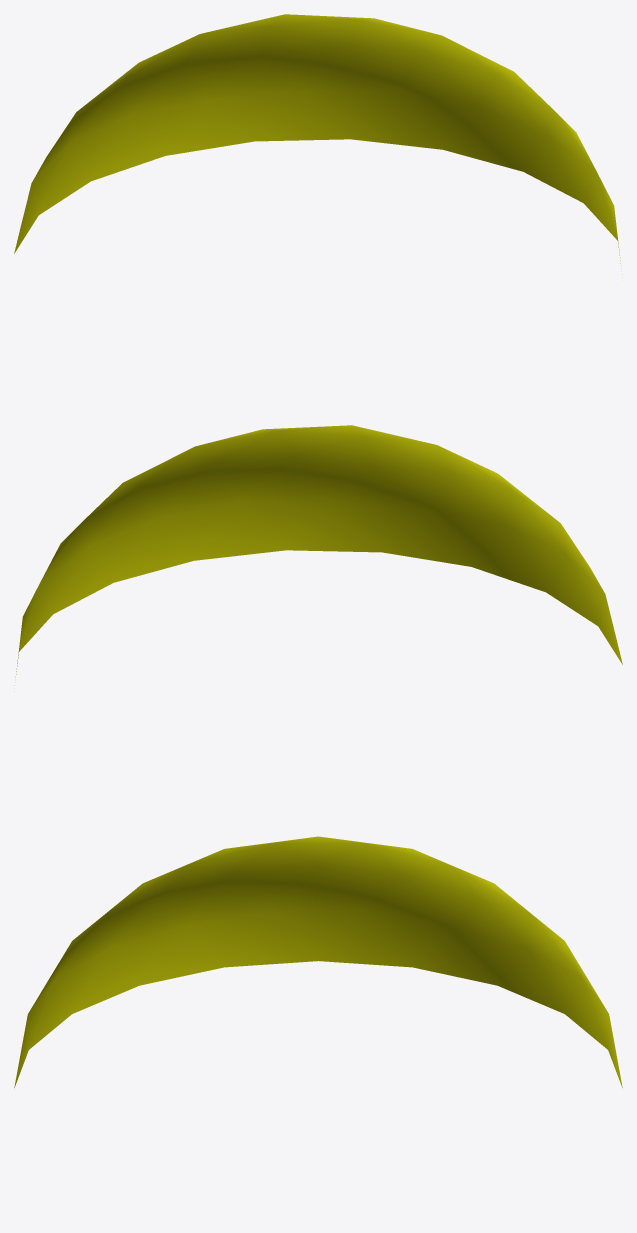
Rendered from SM_SimpleSky_Dome_01.glb.
3 views of the same model, one above another, from view 1: azimuth 30°, elevation 25°; view 2: azimuth 150°, elevation 25°; view 3: azimuth 270°, elevation 25° (orthographic).
Parts seen in each view (by area): view 1: SM_SimpleSky_Dome_01; view 2: SM_SimpleSky_Dome_01; view 3: SM_SimpleSky_Dome_01.
Part boxes in pixels (<box>): SM_SimpleSky_Dome_01: <box>14,14,622,274</box>; SM_SimpleSky_Dome_01: <box>14,425,622,685</box>; SM_SimpleSky_Dome_01: <box>14,836,622,1087</box>.
Size of the model in its own units: 65.88 by 26.13 by 65.88.
Materials: 1 (1 with a texture image).
